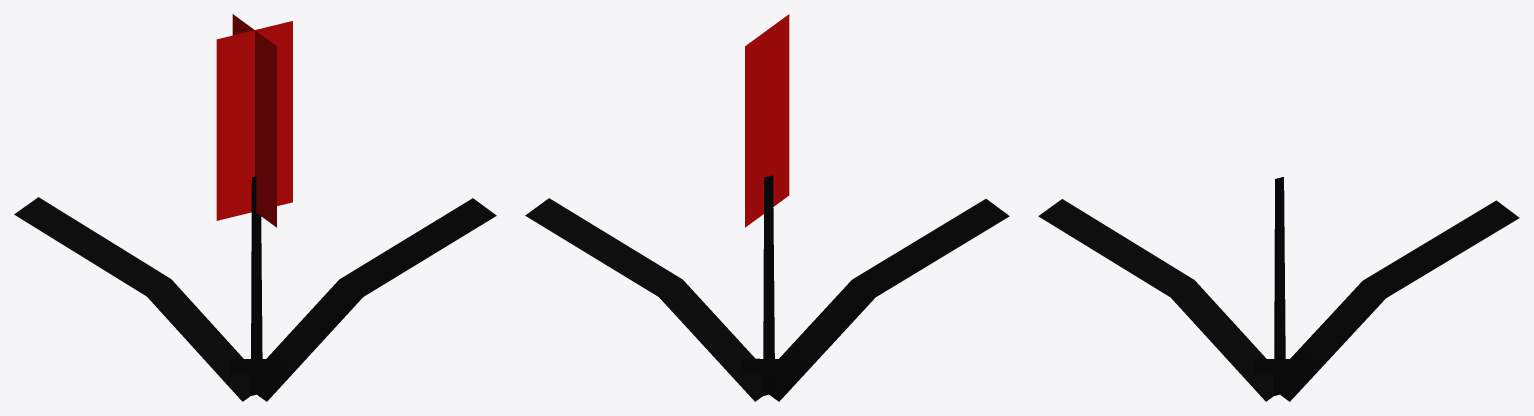
Rendered from flower_violet.glb.
The picture shows the model from 3 angles, left to right: view 1: azimuth 30°, elevation 25°; view 2: azimuth 150°, elevation 25°; view 3: azimuth 270°, elevation 25°; orthographic projection.
Parts seen in each view (by area): view 1: lod0; view 2: lod0; view 3: lod0.
Part boxes in pixels (x1=…): lod0: x1=14, y1=14, x2=496, y2=401; lod0: x1=525, y1=14, x2=1009, y2=401; lod0: x1=1038, y1=177, x2=1519, y2=401.
Size of what is drawn, in the model's own units: 1.05 by 1 by 1.21.
